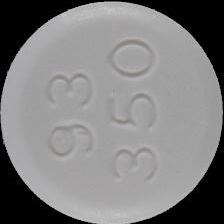61786-182: (0, 0, 224, 224)
